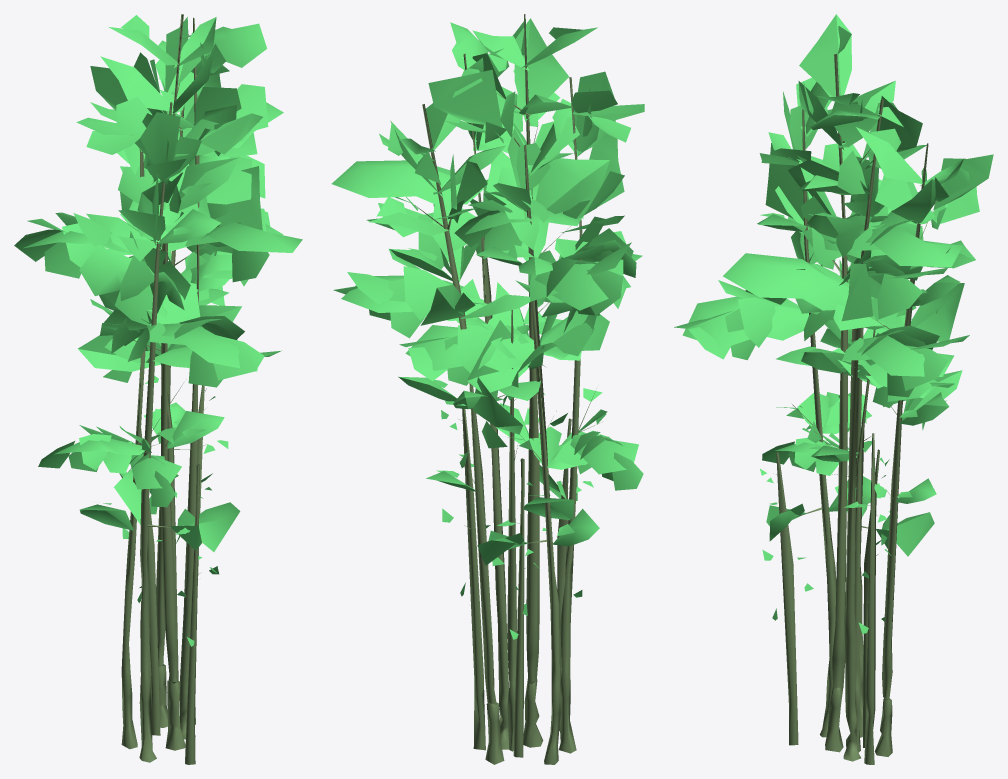
The model's file is Bamboo_Cluster2_LOD1.fbx.
The picture shows the model from 3 angles, left to right: view 1: azimuth 30°, elevation 25°; view 2: azimuth 150°, elevation 25°; view 3: azimuth 270°, elevation 25°; orthographic projection. The views are drawn at different scales.
Visible parts, largest first — view 1: Bamboo_Cluster2_LOD1; view 2: Bamboo_Cluster2_LOD1; view 3: Bamboo_Cluster2_LOD1.
Boxes of the visible parts, left/top/right/bottom form: Bamboo_Cluster2_LOD1: left=14, top=14, right=302, bottom=764; Bamboo_Cluster2_LOD1: left=331, top=14, right=644, bottom=764; Bamboo_Cluster2_LOD1: left=674, top=14, right=993, bottom=764.
Size of the model in its own units: 939 by 2440 by 1005.
